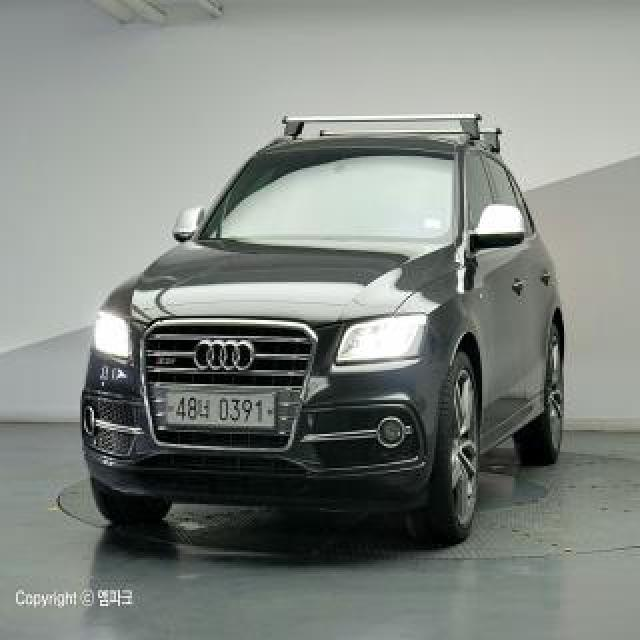car: (69, 101, 577, 563)
illegal_plate: (161, 386, 281, 435)
